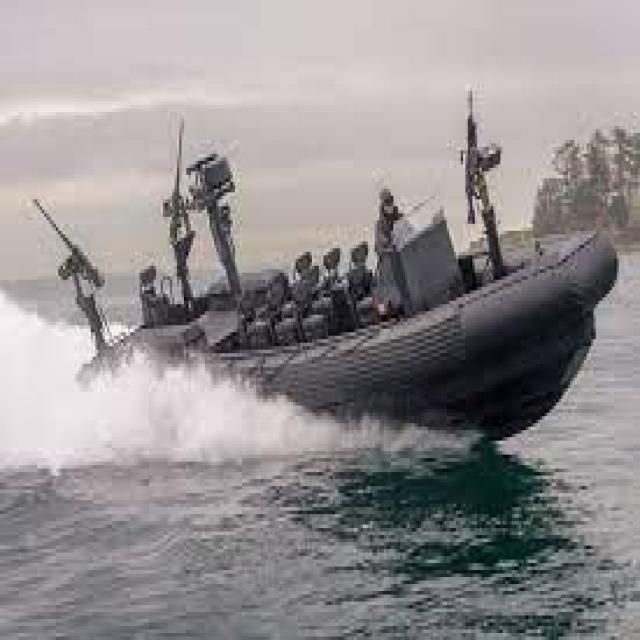houseboat: (48, 129, 614, 440)
